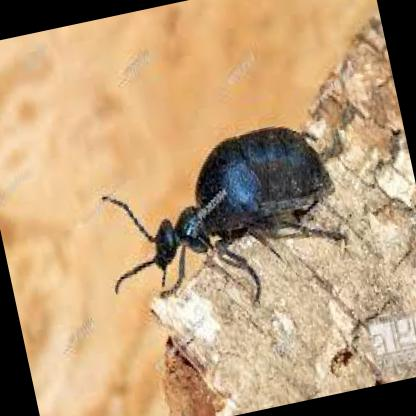blister beetle: (154, 126, 348, 279)
